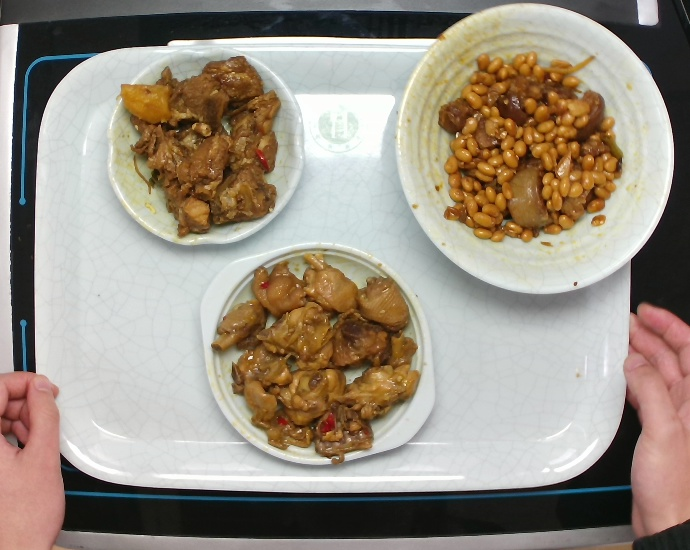JYsf-Ao_Yuan_Wan: (103, 45, 308, 249)
JYsf-Shuang_Er_Pan: (197, 241, 437, 468)
JYsf-Xiao_Tang_Wan: (392, 1, 675, 297)
